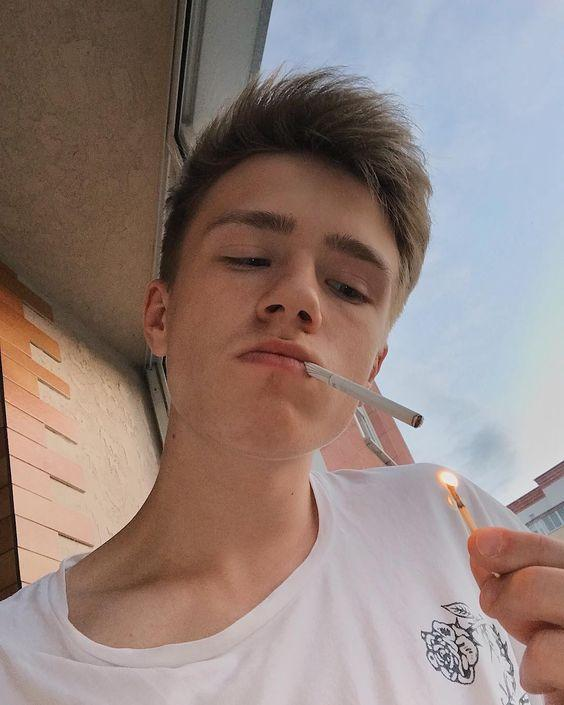cigarette: (304, 363, 423, 428)
